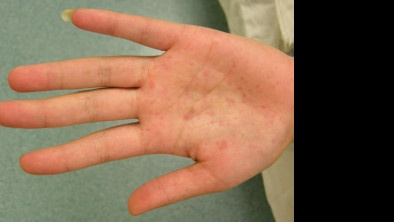SJS-TEN: (115, 8, 322, 213)
